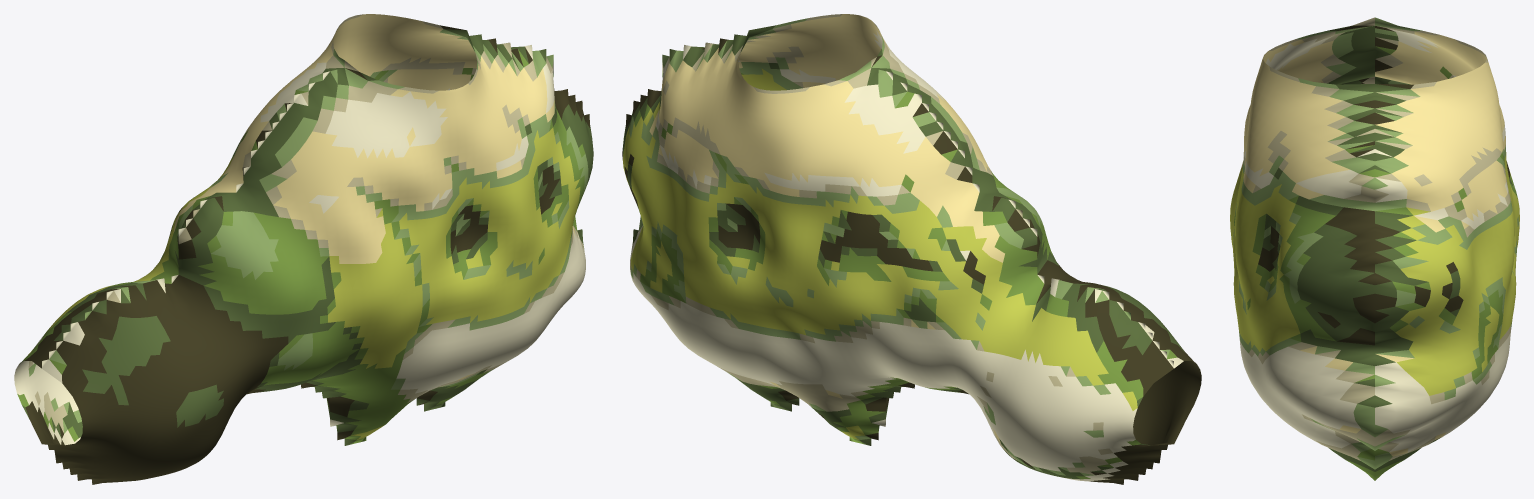
Rendered from saekomaga.glb.
The picture shows the model from 3 angles, left to right: view 1: azimuth 30°, elevation 25°; view 2: azimuth 150°, elevation 25°; view 3: azimuth 270°, elevation 25°; orthographic projection. The views are drawn at different scales.
Parts seen in each view (by area): view 1: saekomaga; view 2: saekomaga; view 3: saekomaga.
Boxes of the visible parts, box(x1,y1,x2,y2) form: saekomaga: box(14, 14, 593, 484); saekomaga: box(622, 14, 1201, 484); saekomaga: box(1230, 17, 1519, 480).
Size of the model in its own units: 699 by 470 by 287.
